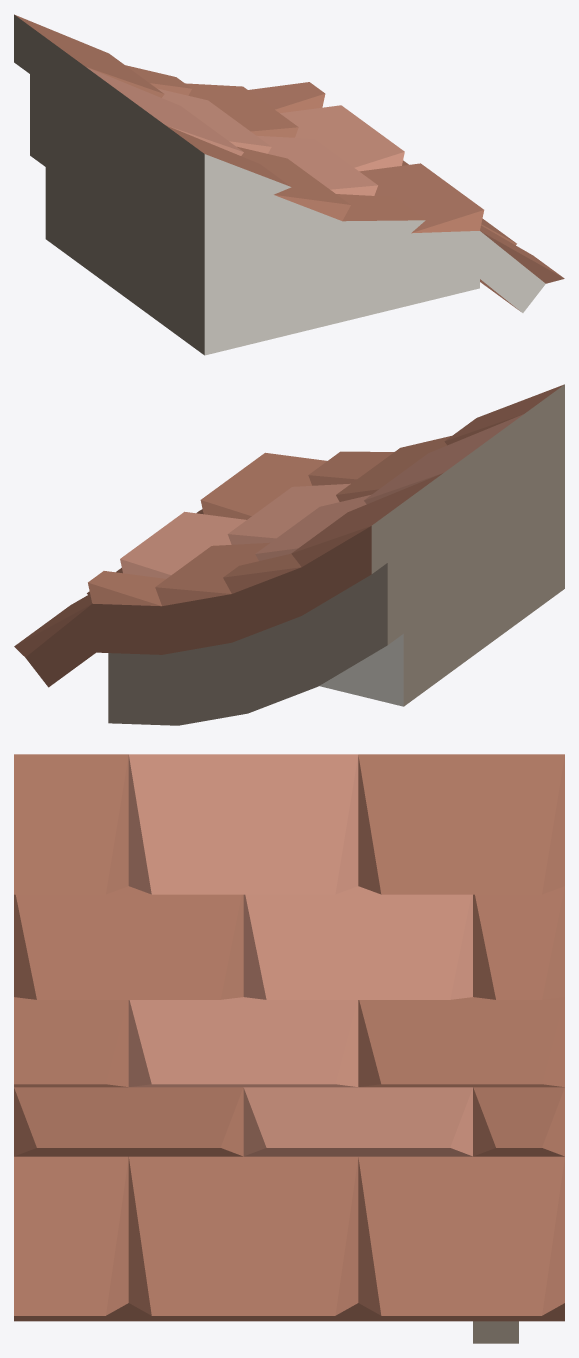
The model's file is Roof_Concave_Side_Eave_Edge.glb.
3 views of the same model, one above another, from view 1: azimuth 30°, elevation 25°; view 2: azimuth 150°, elevation 25°; view 3: azimuth 270°, elevation 25° (orthographic). The views are drawn at different scales.
Visible parts, largest first — view 1: object1; view 2: object1; view 3: object1.
Boxes of the visible parts, bbox=[...] form: object1: bbox=[14, 14, 564, 355]; object1: bbox=[14, 384, 564, 725]; object1: bbox=[14, 754, 564, 1343].
Bounding box in the file's own units: 1.31 × 0.9495 × 1.2.
